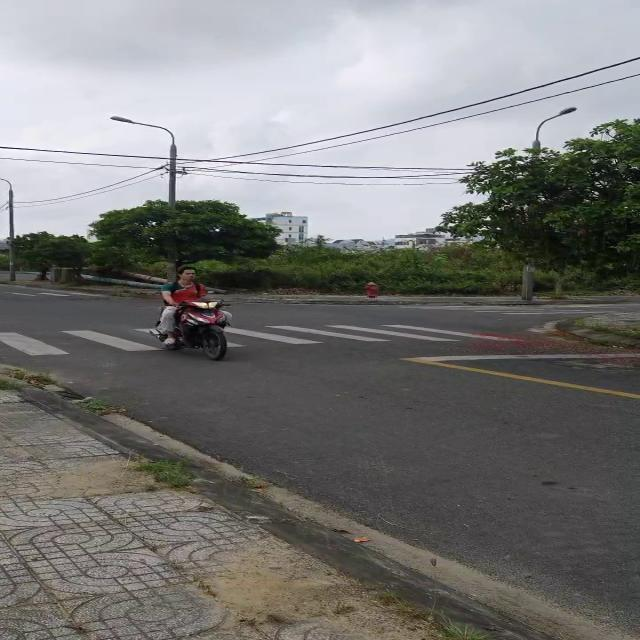no_helmet: (177, 265, 196, 274)
